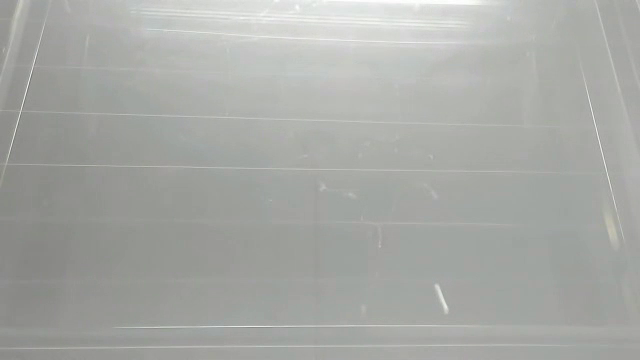alpha: (428, 279, 454, 317)
